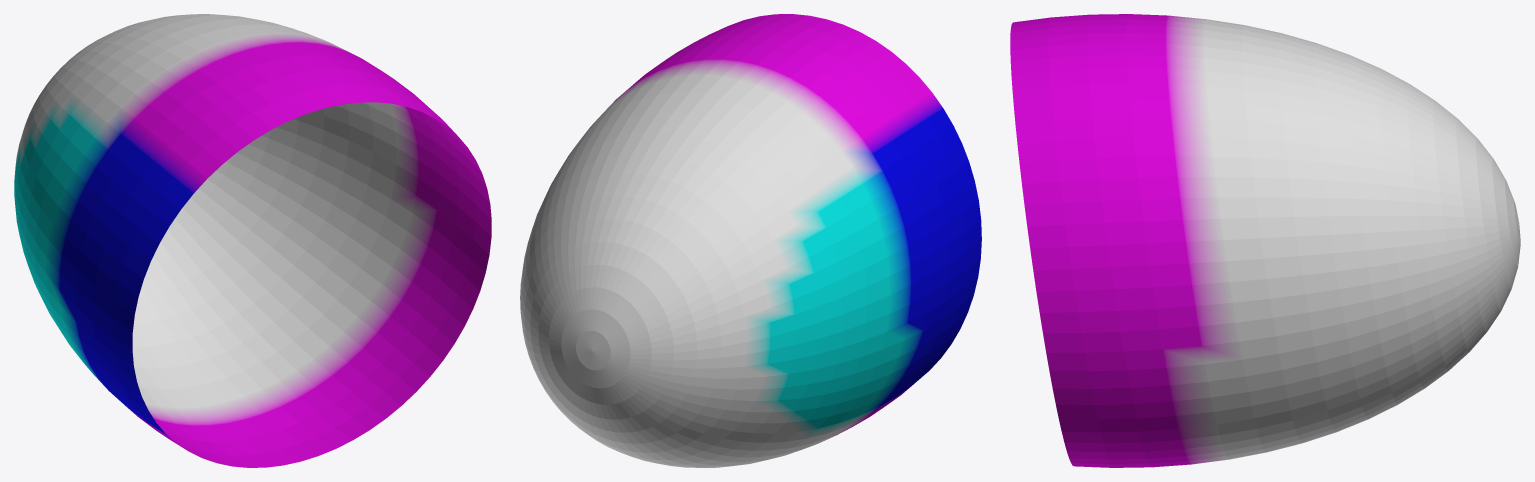
File: skybox.fbx
3 views of the same model, side by side, from view 1: azimuth 30°, elevation 25°; view 2: azimuth 150°, elevation 25°; view 3: azimuth 270°, elevation 25° (orthographic). The views are drawn at different scales.
Parts seen in each view (by area): view 1: skypsmesh1; view 2: skypsmesh1; view 3: skypsmesh1.
Part boxes in pixels (left/top/right/bottom): skypsmesh1: left=14, top=14, right=491, bottom=467; skypsmesh1: left=520, top=14, right=981, bottom=467; skypsmesh1: left=1010, top=14, right=1520, bottom=467.
Size of the model in its own units: 1020 by 1033 by 1159.
